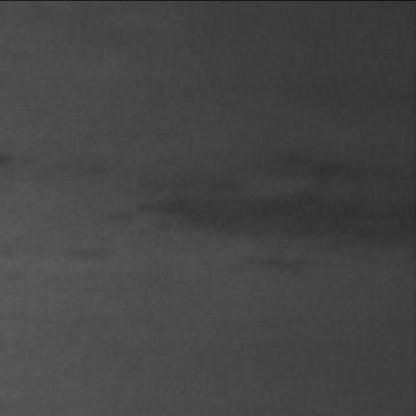inclusion: (85, 156, 410, 254), (52, 237, 137, 273)
